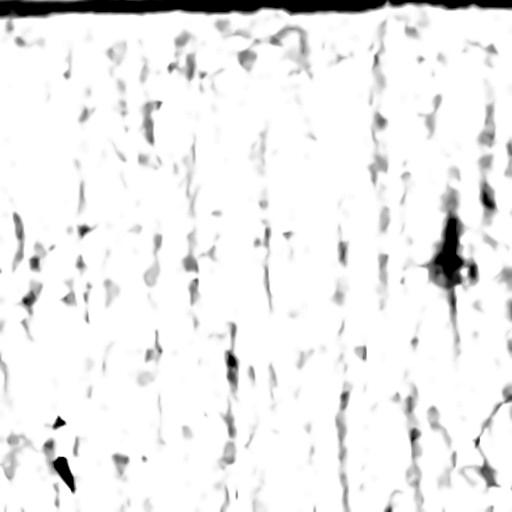egg: (54, 457, 73, 492)
